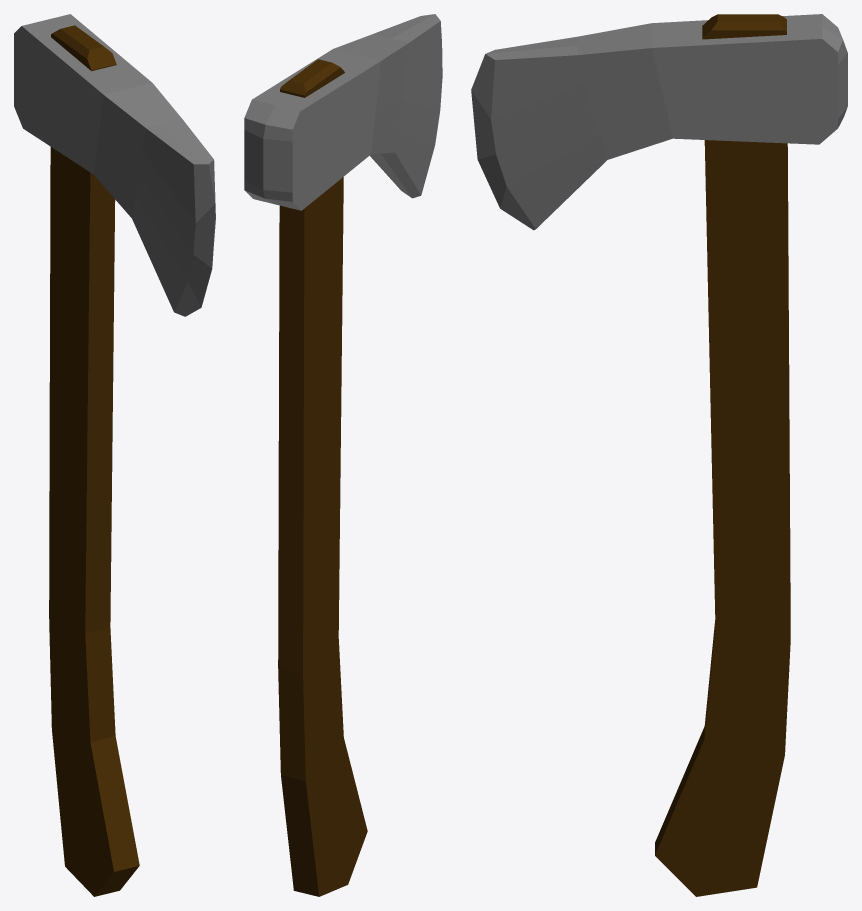
The model's file is machadinho.fbx.
3 renders of one model, left to right at view 1: azimuth 30°, elevation 25°; view 2: azimuth 150°, elevation 25°; view 3: azimuth 270°, elevation 25°, orthographic. The views are drawn at different scales.
Visible parts, largest first — view 1: Handle, Axe Head; view 2: Handle, Axe Head; view 3: Handle, Axe Head.
Part boxes in pixels (x1,y1,x2,y2): Handle: (49, 25, 139, 896); Axe Head: (14, 14, 215, 316); Handle: (278, 59, 367, 896); Axe Head: (244, 14, 442, 210); Handle: (655, 14, 790, 896); Axe Head: (471, 14, 847, 230).
Size of the model in its own units: 99.29 by 1624 by 636.
